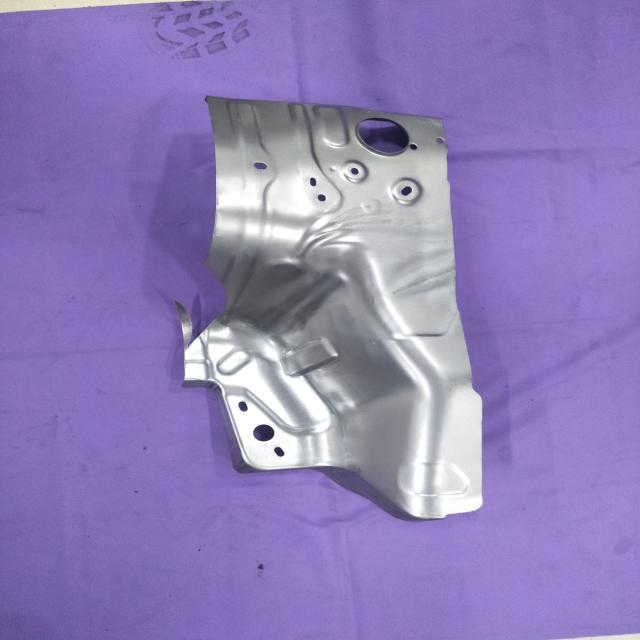Defect: (173, 258, 234, 354)
